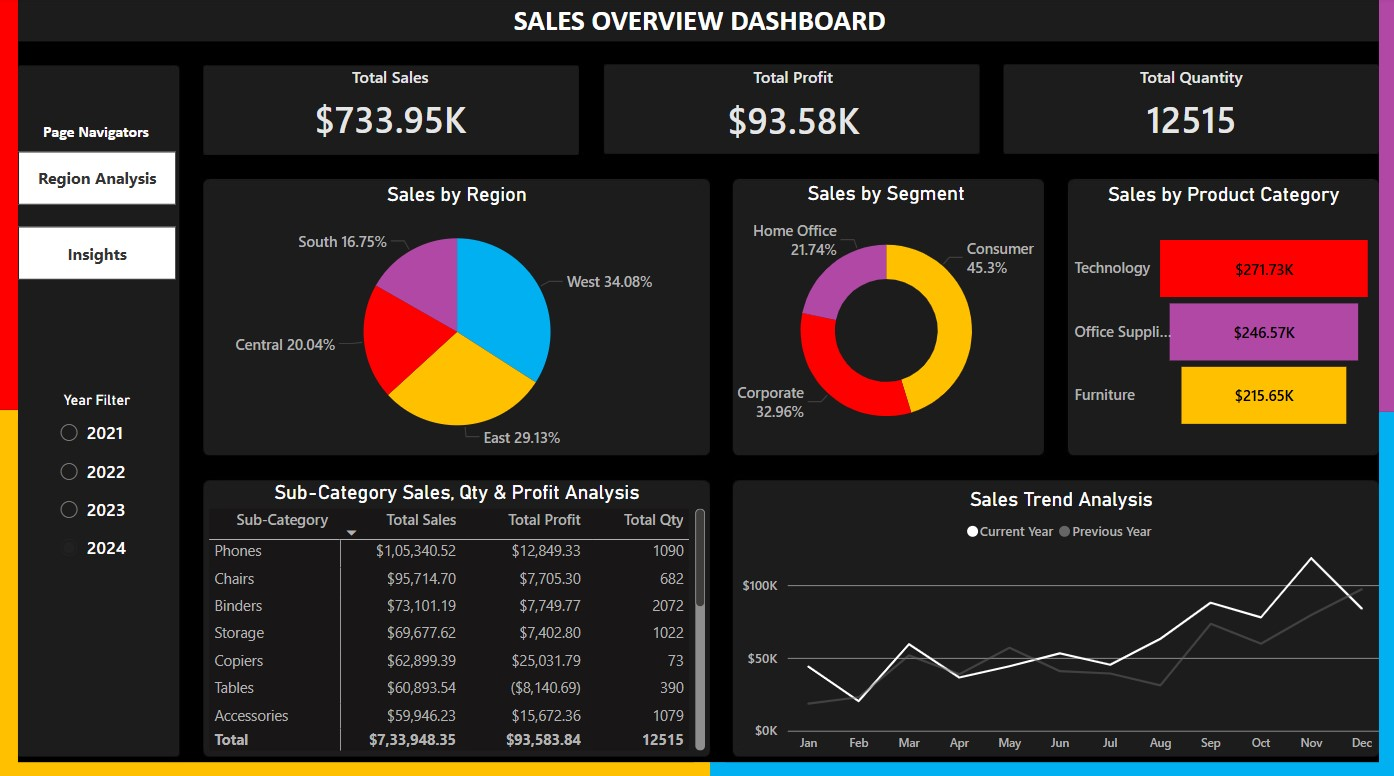

This screenshot's page, from the dashboard's own definition file:
{"tool":"powerbi","page":{"name":"Overview","canvas":[1280,720],"ordinal":0},"visuals":[{"type":"card","title":"Total Sales","fields":{"Values":["Sales Data.Total Sales"]},"box":[187.3,63.8,342,77.4],"z":0},{"type":"card","title":"Total Profit","fields":{"Values":["Sales Data.Total Profit"]},"box":[555,63.8,343.3,80.1],"z":1000},{"type":"card","title":"Total Quantity","fields":{"Values":["Sales Data.Total Qty"]},"box":[920.1,63.8,343.3,77.4],"z":2000},{"type":"pieChart","title":"Sales by Region","fields":{"Y":["Sales Data.Total Sales"],"Category":["Sales Data.Region"]},"box":[187.3,169.6,464.1,252.4],"z":3000},{"type":"donutChart","title":"Sales by Segment","fields":{"Y":["Sales Data.Total Sales"],"Category":["Sales Data.Segment"]},"box":[667.7,168.3,290.4,252.4],"z":4000},{"type":"funnel","title":"Sales by Product Category","fields":{"Category":["Sales Data.Category"],"Y":["Sales Data.Total Sales"]},"box":[979.8,169.6,283.6,251.1],"z":5000},{"type":"pivotTable","title":"Sub-Category Sales, Qty & Profit Analysis","fields":{"Values":["Sales Data.Total Sales","Sales Data.Total Profit","Sales Data.Total Qty"],"Rows":["Sales Data.Sub-Category"]},"box":[187.3,442.4,464.1,252.4],"z":6000},{"type":"lineChart","title":"Sales Trend Analysis","fields":{"Y":["Sales Data.CY Sales","Sales Data.PY Sales value"],"Category":["Calendar Table.Month"]},"box":[667.7,442.4,595.8,252.4],"z":7000},{"type":"slicer","title":"Year Filter","fields":{"Values":["Calendar Table.Year"]},"box":[43.4,361,92.3,187.3],"z":8000},{"type":"pageNavigator","box":[17.6,141.1,145.2,119.4],"z":9000},{"type":"textbox","box":[14.9,108.6,147.9,28.5],"z":10000},{"type":"textbox","box":[375.8,0,532.1,47.1],"z":11000},{"type":"shape","box":[1263.5,380,16.3,336.6],"z":12000},{"type":"shape","box":[651.4,700.3,628.3,16.3],"z":13000},{"type":"shape","box":[1263.5,0,16.3,380],"z":14000},{"type":"shape","box":[0,0,17.4,378.3],"z":15000},{"type":"shape","box":[0,700.3,651.4,16.3],"z":16000},{"type":"shape","box":[0,378.3,17.4,329.9],"z":17000}]}

Visuals, with their boxes in screenshot pixels (x1, y1, x2, y2), scaled from the page's 1280x720 canvas onto the 1394x776 screenshot:
"Total Sales" card: box(204, 69, 576, 152)
"Total Profit" card: box(604, 69, 978, 155)
"Total Quantity" card: box(1002, 69, 1376, 152)
"Sales by Region" pieChart: box(204, 183, 709, 455)
"Sales by Segment" donutChart: box(727, 181, 1043, 453)
"Sales by Product Category" funnel: box(1067, 183, 1376, 453)
"Sub-Category Sales, Qty & Profit Analysis" pivotTable: box(204, 477, 709, 749)
"Sales Trend Analysis" lineChart: box(727, 477, 1376, 749)
"Year Filter" slicer: box(47, 389, 148, 591)
pageNavigator: box(19, 152, 177, 281)
textbox: box(16, 117, 177, 148)
textbox: box(409, 0, 989, 51)
shape: box(1376, 410, 1393, 772)
shape: box(709, 755, 1393, 772)
shape: box(1376, 0, 1393, 410)
shape: box(0, 0, 19, 408)
shape: box(0, 755, 709, 772)
shape: box(0, 408, 19, 763)
